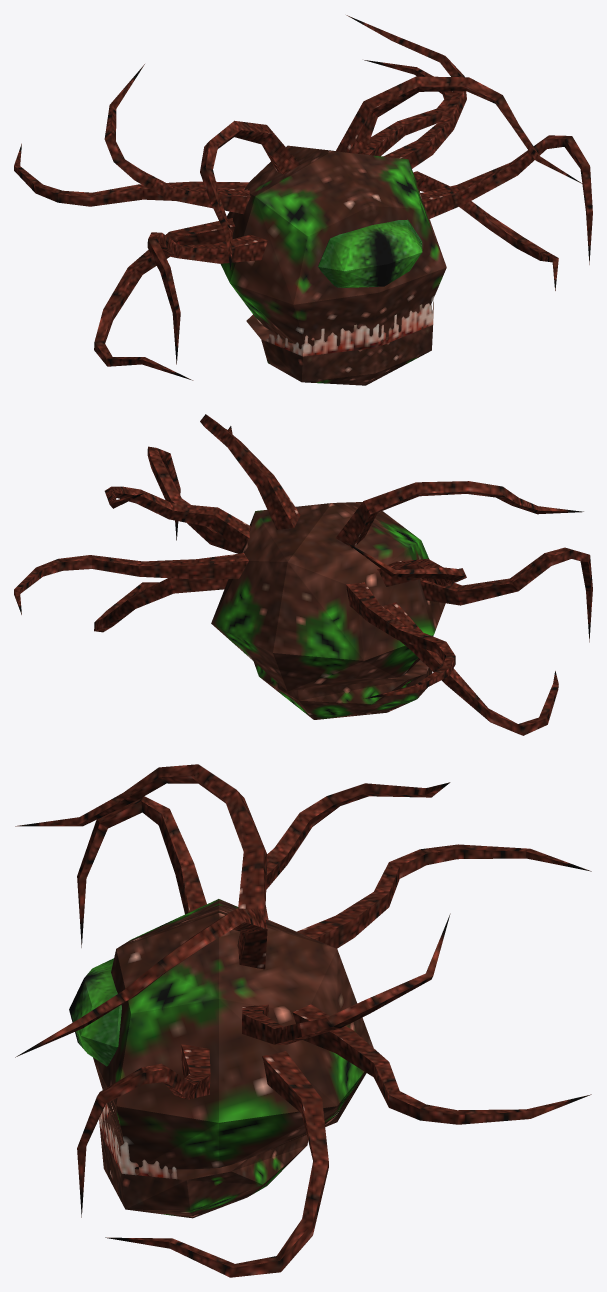
The model's file is beholder.obj.
The picture shows the model from 3 angles, top to bottom: view 1: azimuth 30°, elevation 25°; view 2: azimuth 150°, elevation 25°; view 3: azimuth 270°, elevation 25°; orthographic projection. The views are drawn at different scales.
Visible parts, largest first — view 1: Head, Mouth, Eye, TentacleLeft02, TentacleLeft01, TentacleRight04, TentacleRight01, TentacleRight02, TentacleRight03, TentacleLeft03, TentacleRight05, TentacleLeft05 (+1 smaller); view 2: Head, Mouth, TentacleLeft05, TentacleRight02, TentacleRight01, TentacleRight05, TentacleLeft03, TentacleRight04, TentacleLeft02, TentacleLeft04, TentacleRight03, TentacleLeft01; view 3: Head, Mouth, TentacleLeft04, TentacleRight02, TentacleLeft05, TentacleRight05, TentacleLeft02, TentacleRight01, TentacleLeft01, TentacleLeft03, TentacleRight03, Eye.
Boxes of the visible parts, x1,y1,x2,y2 form: Head: (220,145,446,348); Mouth: (246,299,433,385); Eye: (318,219,422,287); TentacleLeft02: (336,76,583,184); TentacleLeft01: (420,135,592,264); TentacleRight04: (94,218,235,380); TentacleRight01: (147,232,267,364); TentacleRight02: (200,120,300,270); TentacleRight03: (104,64,250,214); TentacleLeft03: (346,15,466,168); TentacleRight05: (14,143,248,206); TentacleLeft05: (364,60,452,155); Head: (211,502,445,691); Mouth: (254,659,432,719); TentacleLeft05: (14,553,248,614); TentacleRight02: (336,481,583,548); TentacleRight01: (420,547,592,642); TentacleRight05: (346,582,455,698); TentacleLeft03: (104,486,250,551); TentacleRight04: (382,602,558,735); TentacleLeft02: (200,414,300,529); TentacleLeft04: (94,578,228,632); TentacleRight03: (346,542,466,586); TentacleLeft01: (147,446,239,553); Head: (93,899,373,1169); Mouth: (99,1103,307,1218); TentacleLeft04: (105,1051,328,1277); TentacleRight02: (15,764,267,917); TentacleLeft05: (292,1004,591,1124); TentacleRight05: (297,844,591,948); TentacleLeft02: (15,908,267,1057); TentacleRight01: (77,796,206,947); TentacleLeft01: (77,1044,210,1217); TentacleLeft03: (242,913,450,1044); TentacleRight03: (265,782,450,919); Eye: (69,958,121,1066).
Bounding box in the file's own units: 8.63 × 4.9 × 7.33.
